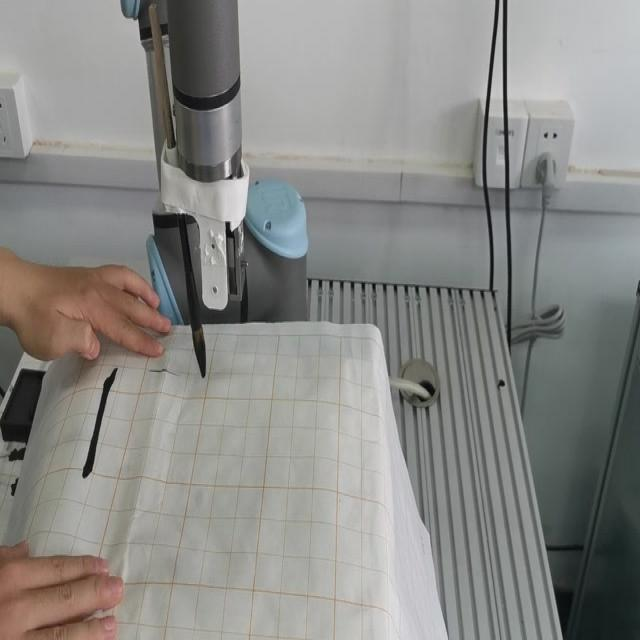head: (188, 325, 212, 382)
writing-brush: (140, 2, 212, 383)
